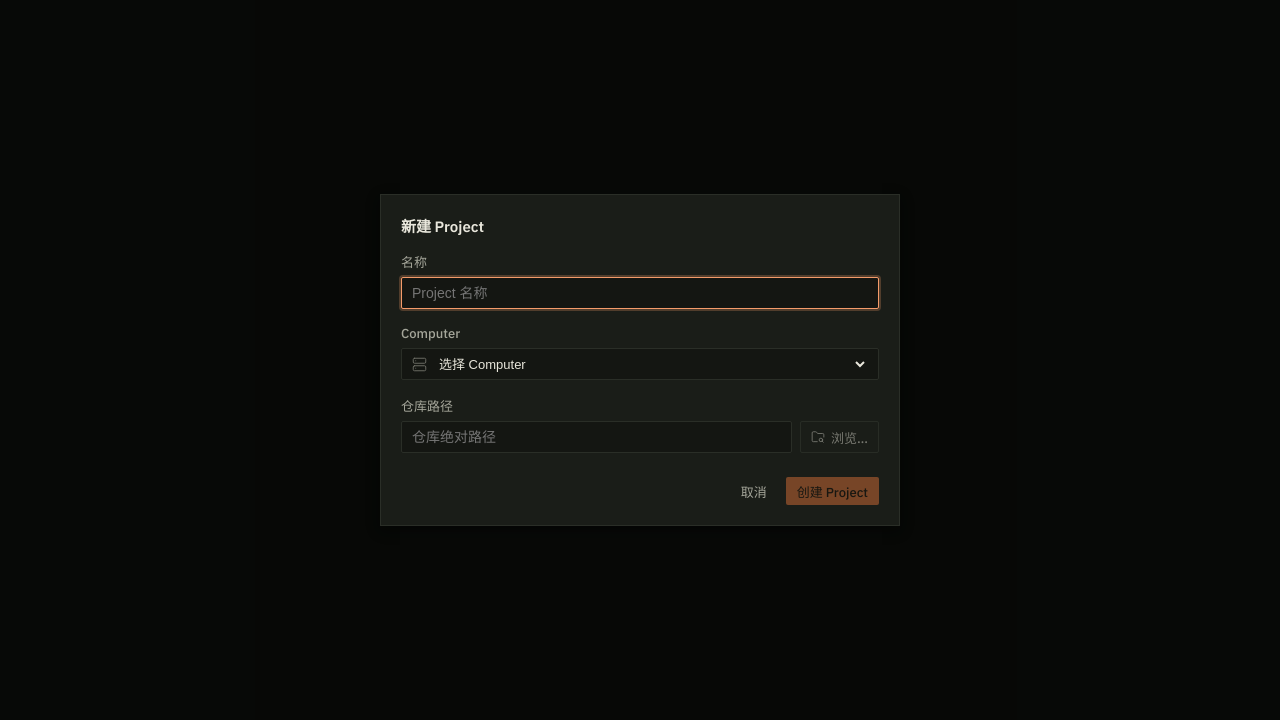
Test: NewProjectModal › 选机后浏览可用，点击打开 FolderPickerModal
Select "本机" in the dropdown labelled "Computer": (652, 364) [435,349,868,379]
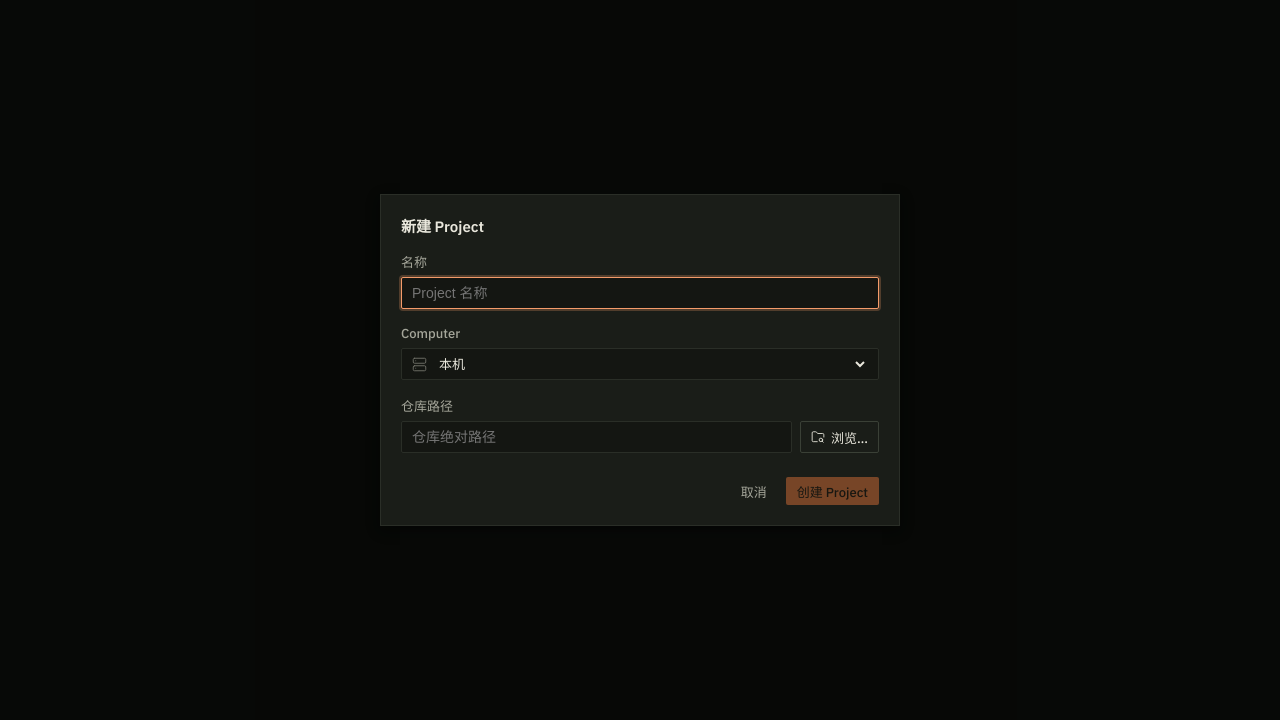
Expected: the button "浏览…" is enabled
Click the button "浏览…": click(840, 437) [800,421,879,453]
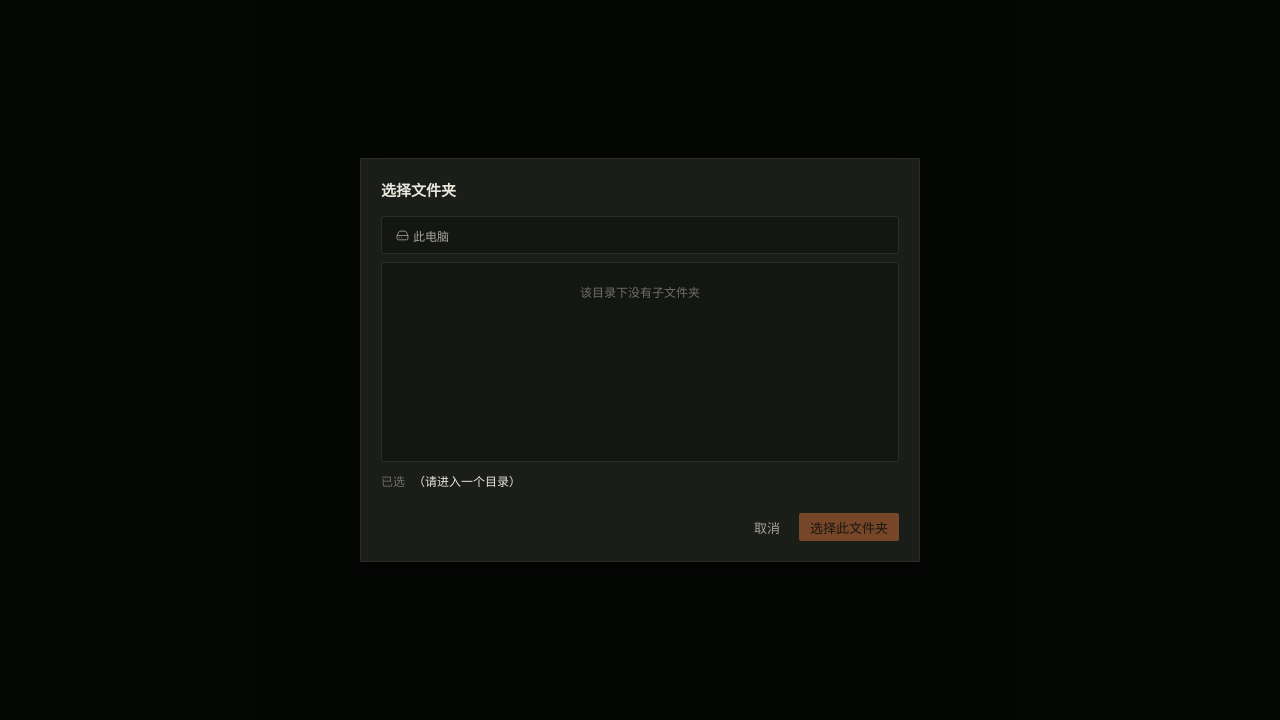
Expected: the dialog "选择文件夹" is shown, [360,158,920,562]
